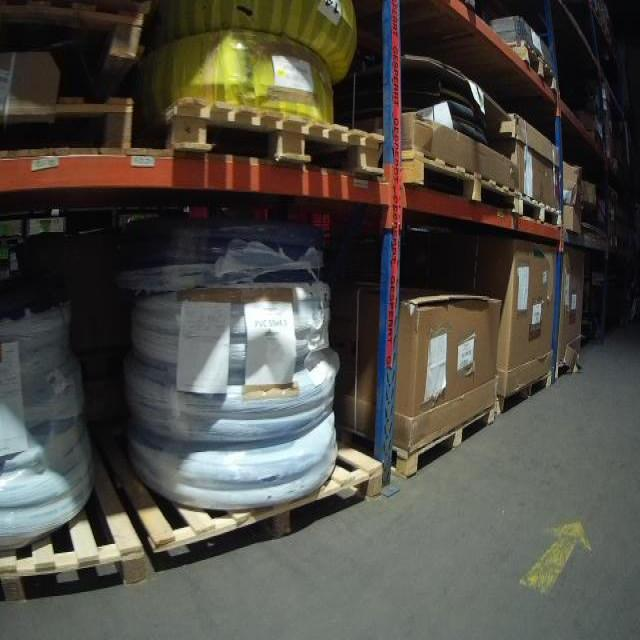pallet: (98, 402, 382, 571), (0, 451, 143, 605), (156, 101, 385, 180), (337, 404, 496, 483), (0, 2, 156, 74), (0, 99, 136, 161), (395, 148, 517, 216), (503, 41, 558, 93), (494, 372, 551, 420), (514, 189, 564, 227)
